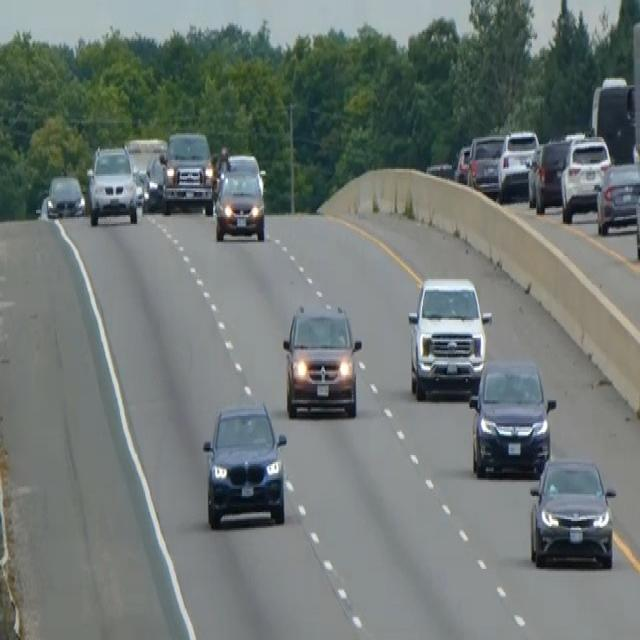car: (201, 400, 287, 528), (468, 356, 555, 478), (407, 274, 491, 400), (528, 455, 616, 569), (560, 134, 611, 222), (213, 156, 265, 242), (86, 142, 138, 226), (526, 135, 571, 213), (595, 160, 639, 235), (498, 128, 539, 201), (466, 132, 505, 198), (45, 170, 85, 218), (141, 150, 166, 212), (453, 142, 471, 183), (634, 182, 639, 262)
jeep: (159, 128, 215, 213)
minivan: (281, 300, 362, 420)
